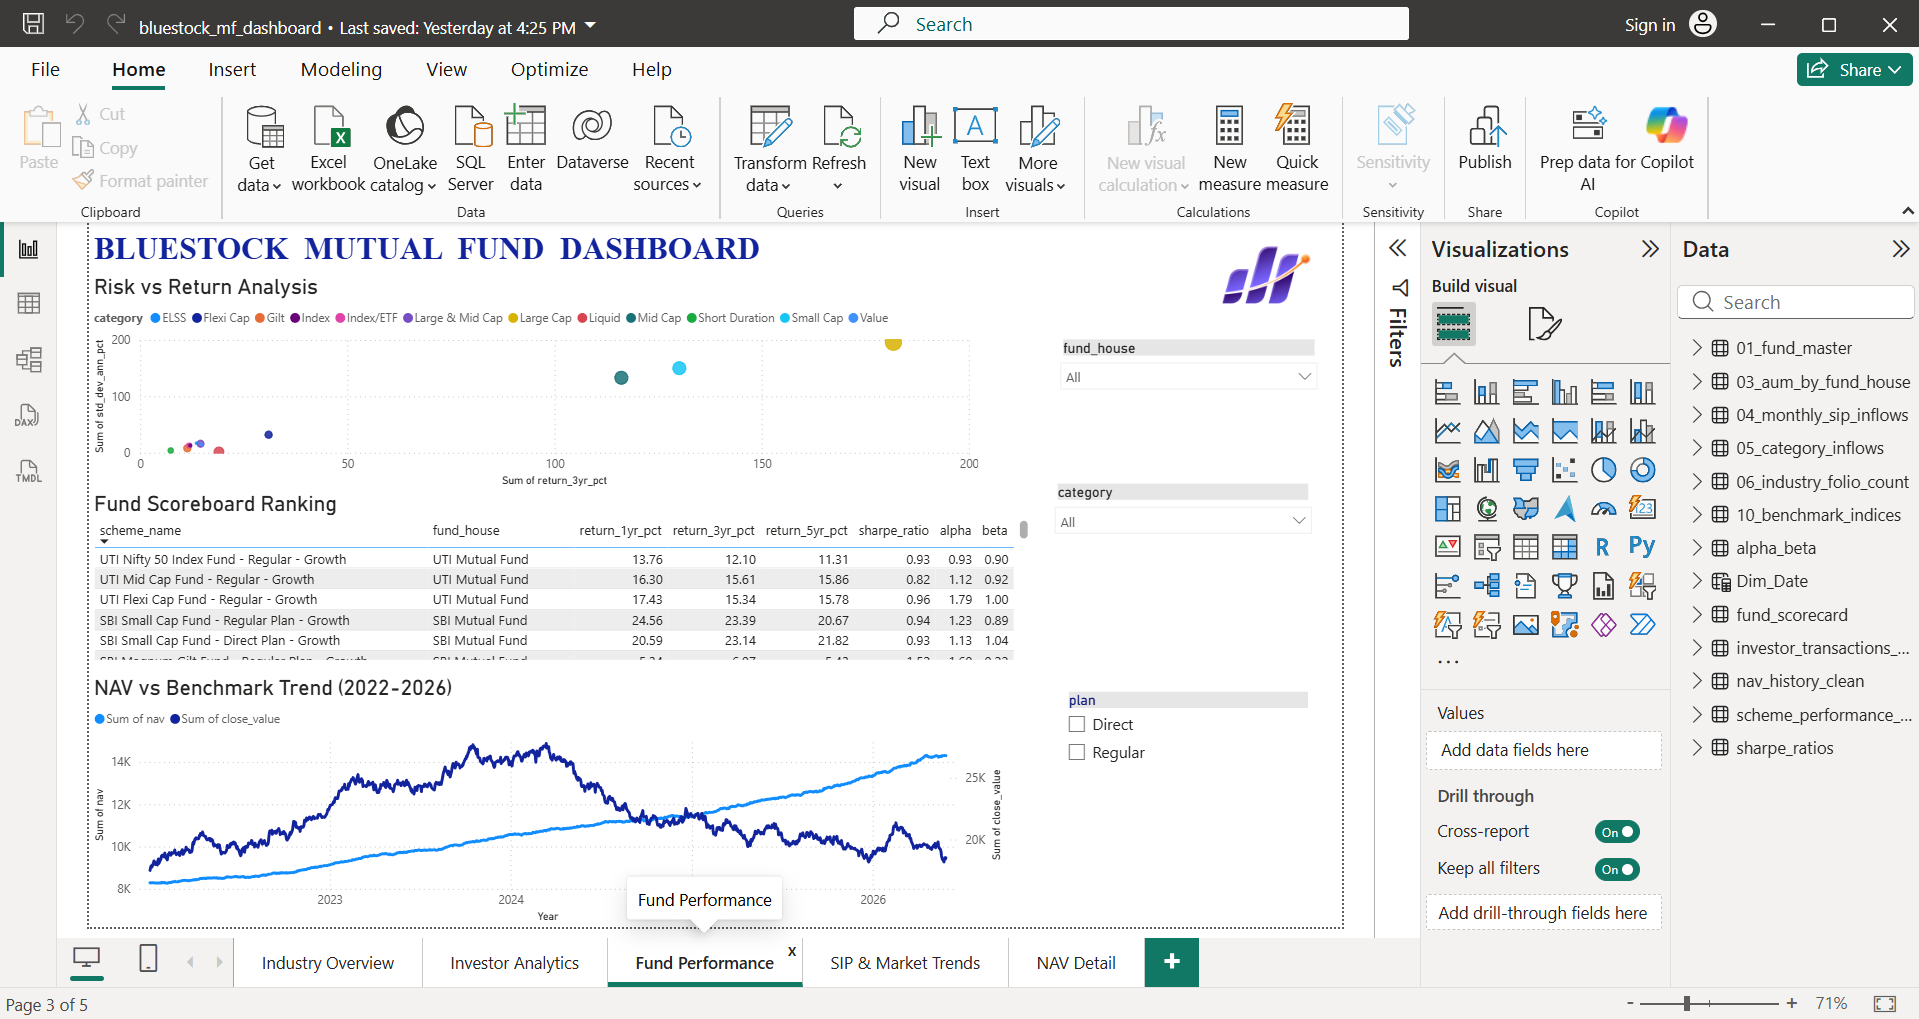

The page's visual inventory and layout, read from the dashboard file:
{"tool":"powerbi","page":{"name":"Fund Performance","canvas":[1280,720],"ordinal":2},"visuals":[{"type":"tableEx","title":"Fund Scoreboard Ranking","fields":{"Values":["scheme_performance_clean.scheme_name","scheme_performance_clean.fund_house","scheme_performance_clean.return_1yr_pct","scheme_performance_clean.return_3yr_pct","scheme_performance_clean.return_5yr_pct","scheme_performance_clean.sharpe_ratio","scheme_performance_clean.alpha","scheme_performance_clean.beta"]},"box":[0,274.6,964.2,177.6],"z":0},{"type":"lineChart","title":"NAV vs Benchmark Trend (2022-2026)","fields":{"Category":["Dim_Date.Date.Variation.Date Hierarchy.Year","Dim_Date.Date.Variation.Date Hierarchy.Quarter","Dim_Date.Date.Variation.Date Hierarchy.Month","Dim_Date.Date.Variation.Date Hierarchy.Day"],"Y":["Sum(nav_history_clean.nav)"],"Y2":["Sum(10_benchmark_indices.close_value)"]},"box":[0,462.7,937.3,256.7],"z":1000},{"type":"slicer","fields":{"Values":["scheme_performance_clean.fund_house"]},"box":[982.3,114.5,282.3,125.8],"z":2000},{"type":"slicer","fields":{"Values":["scheme_performance_clean.category"]},"box":[976.1,262.7,282.1,162.7],"z":3000},{"type":"slicer","fields":{"Values":["scheme_performance_clean.plan"]},"box":[988.1,474.6,270.1,116.4],"z":4000},{"type":"scatterChart","title":"Risk vs Return Analysis","fields":{"Series":["scheme_performance_clean.category"],"X":["Sum(scheme_performance_clean.return_3yr_pct)"],"Y":["Sum(scheme_performance_clean.std_dev_ann_pct)"],"Size":["Sum(scheme_performance_clean.aum_crore)"]},"box":[0,53.7,913.4,220.9],"z":5000},{"type":"textbox","box":[0,3.4,776.3,50.8],"z":6000},{"type":"image","box":[1118.7,0,161.3,108.1],"z":7000}]}

Visuals, with their boxes on the page's 1280x720 design canvas (x1, y1, x2, y2). These are canvas units, not pixel positions in the 1919x1019 screenshot, which may show the page scaled, cropped or inside an application window:
"Fund Scoreboard Ranking" tableEx: bbox=[0, 275, 964, 452]
"NAV vs Benchmark Trend (2022-2026)" lineChart: bbox=[0, 463, 937, 719]
slicer - scheme_performance_clean.fund_house: bbox=[982, 114, 1265, 240]
slicer - scheme_performance_clean.category: bbox=[976, 263, 1258, 425]
slicer - scheme_performance_clean.plan: bbox=[988, 475, 1258, 591]
"Risk vs Return Analysis" scatterChart: bbox=[0, 54, 913, 275]
textbox: bbox=[0, 3, 776, 54]
image: bbox=[1119, 0, 1280, 108]
